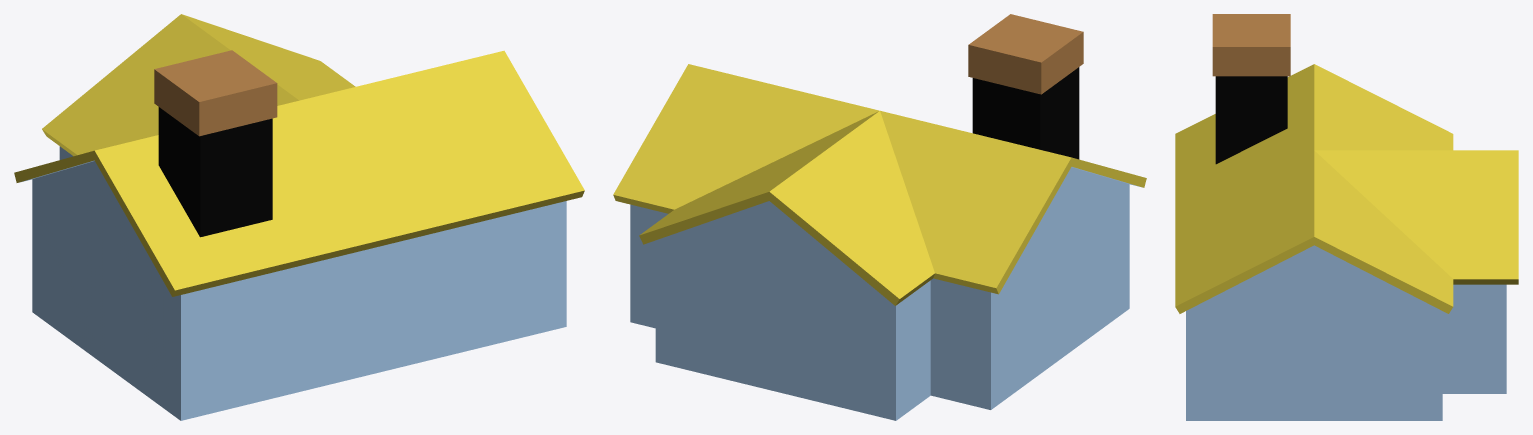
Rendered from Map-House-T-Lv2-Y.fbx.
3 views of the same model, side by side, from view 1: azimuth 30°, elevation 25°; view 2: azimuth 150°, elevation 25°; view 3: azimuth 270°, elevation 25° (orthographic). The views are drawn at different scales.
Parts seen in each view (by area): view 1: Map-House-T-Lv2-Y; view 2: Map-House-T-Lv2-Y; view 3: Map-House-T-Lv2-Y.
Boxes of the visible parts, x1,y1,x2,y2 form: Map-House-T-Lv2-Y: (14,14,584,420); Map-House-T-Lv2-Y: (613,14,1146,420); Map-House-T-Lv2-Y: (1175,14,1518,420).
Bounding box in the file's own units: 1.91 × 1.33 × 1.6.
